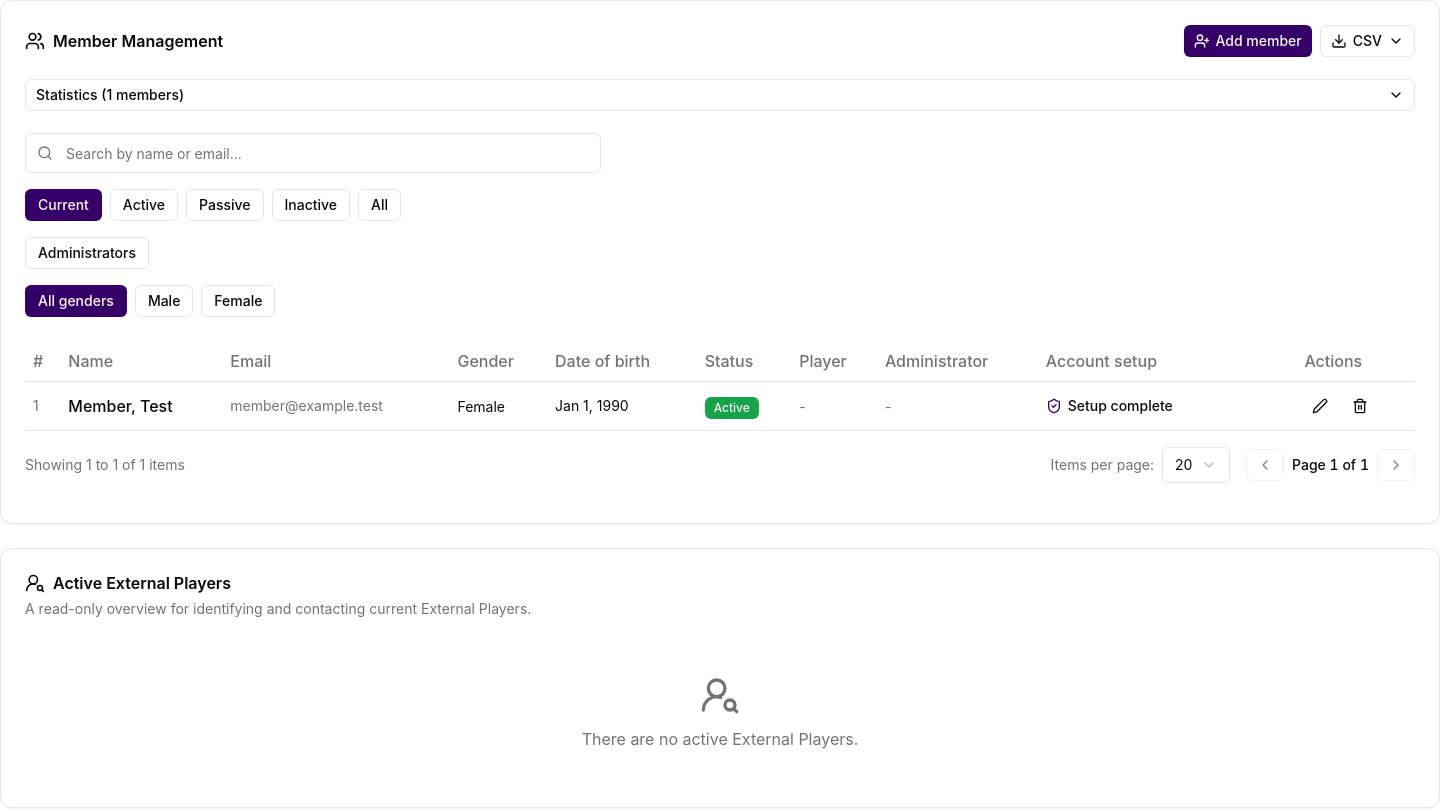
Test: MemberCenter member projection › manages Account suspension for the selected member and shows its reason
Click the button named "Edit Member, Test" at (1320, 406), box [1304, 390, 1336, 422]
(page scrolled)
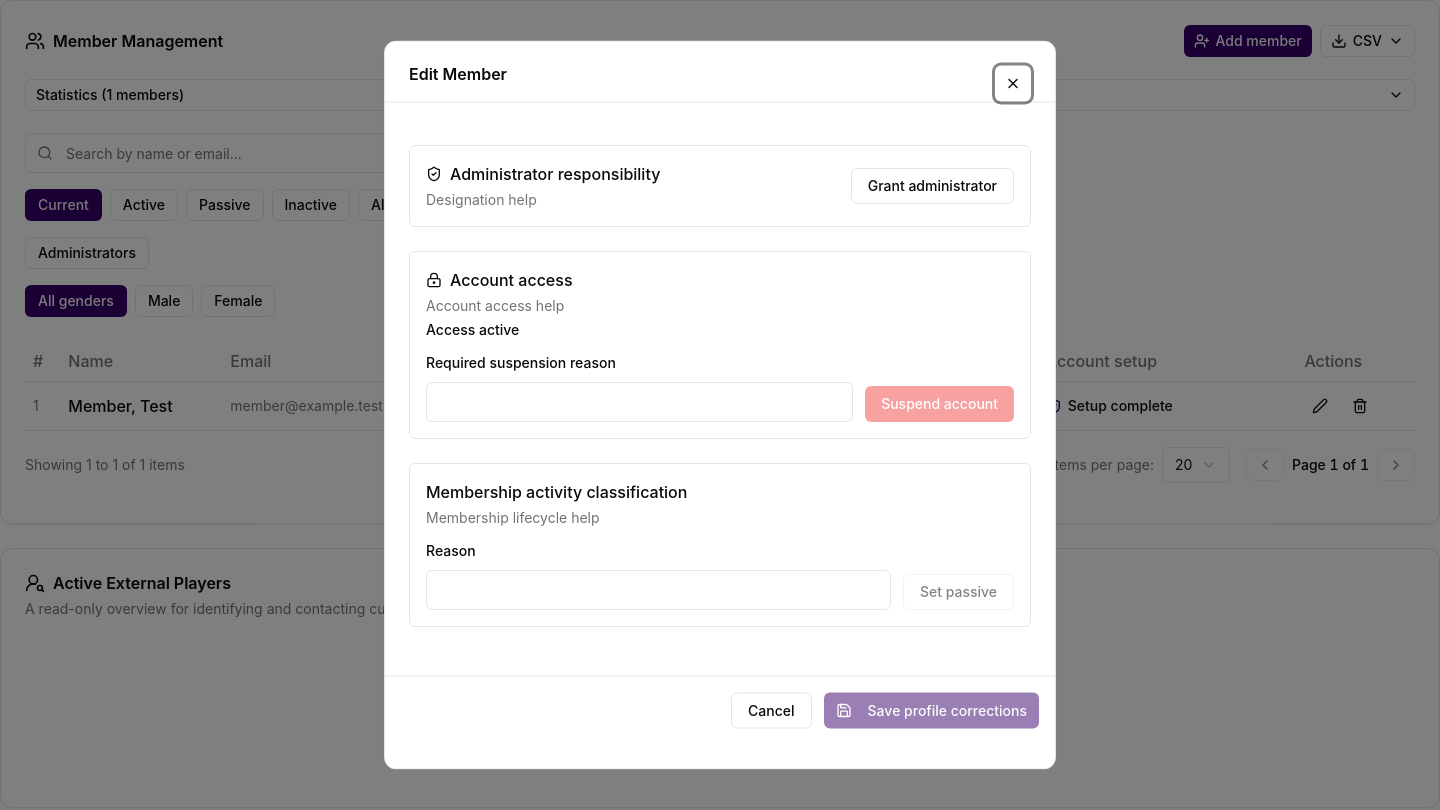
Now the text "Access active" is shown, box [426, 322, 519, 338]
Type "Policy review" into the field labelled "Required suspension reason" at (640, 402), box [426, 382, 853, 422]
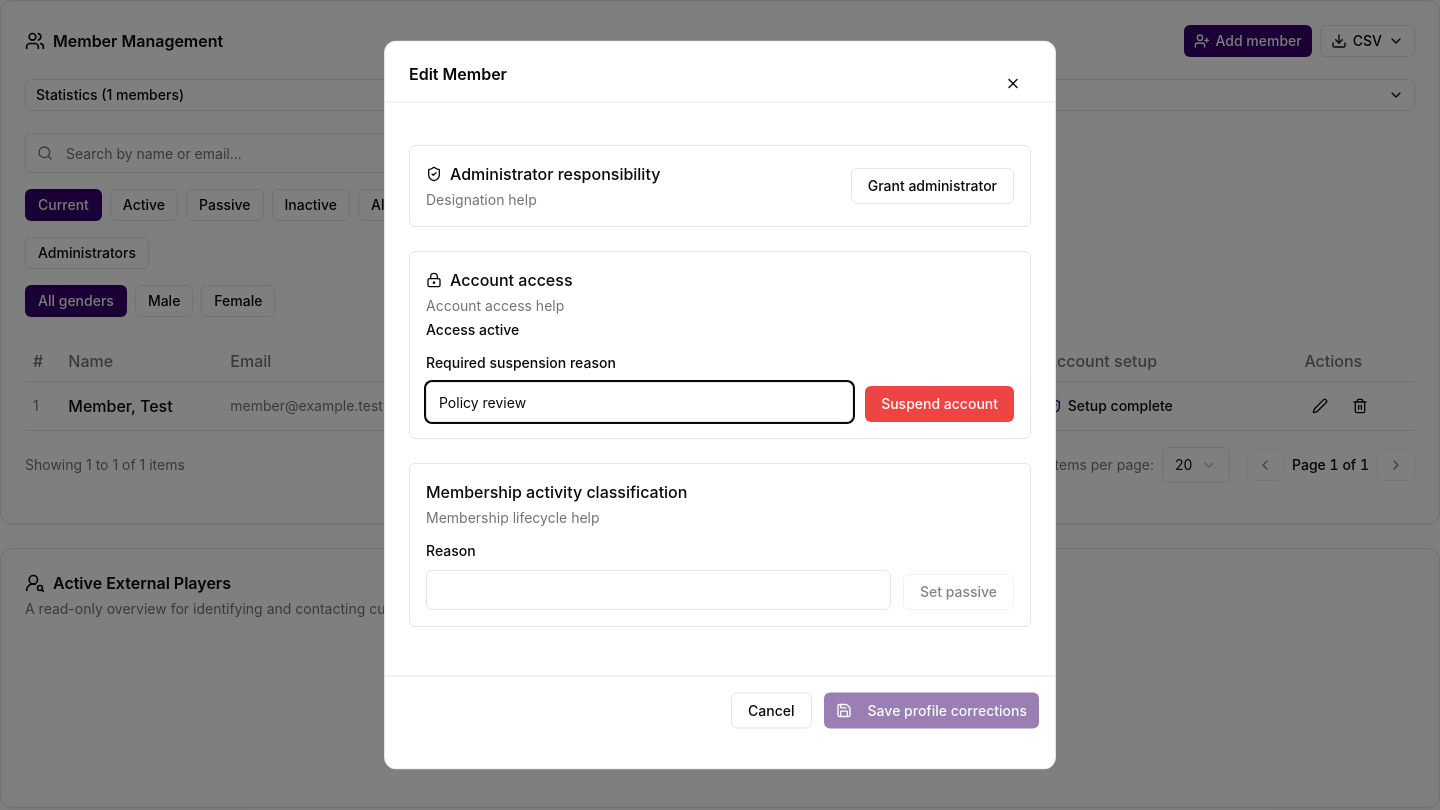
Click the button "Suspend account" at (940, 404), box [865, 386, 1014, 422]
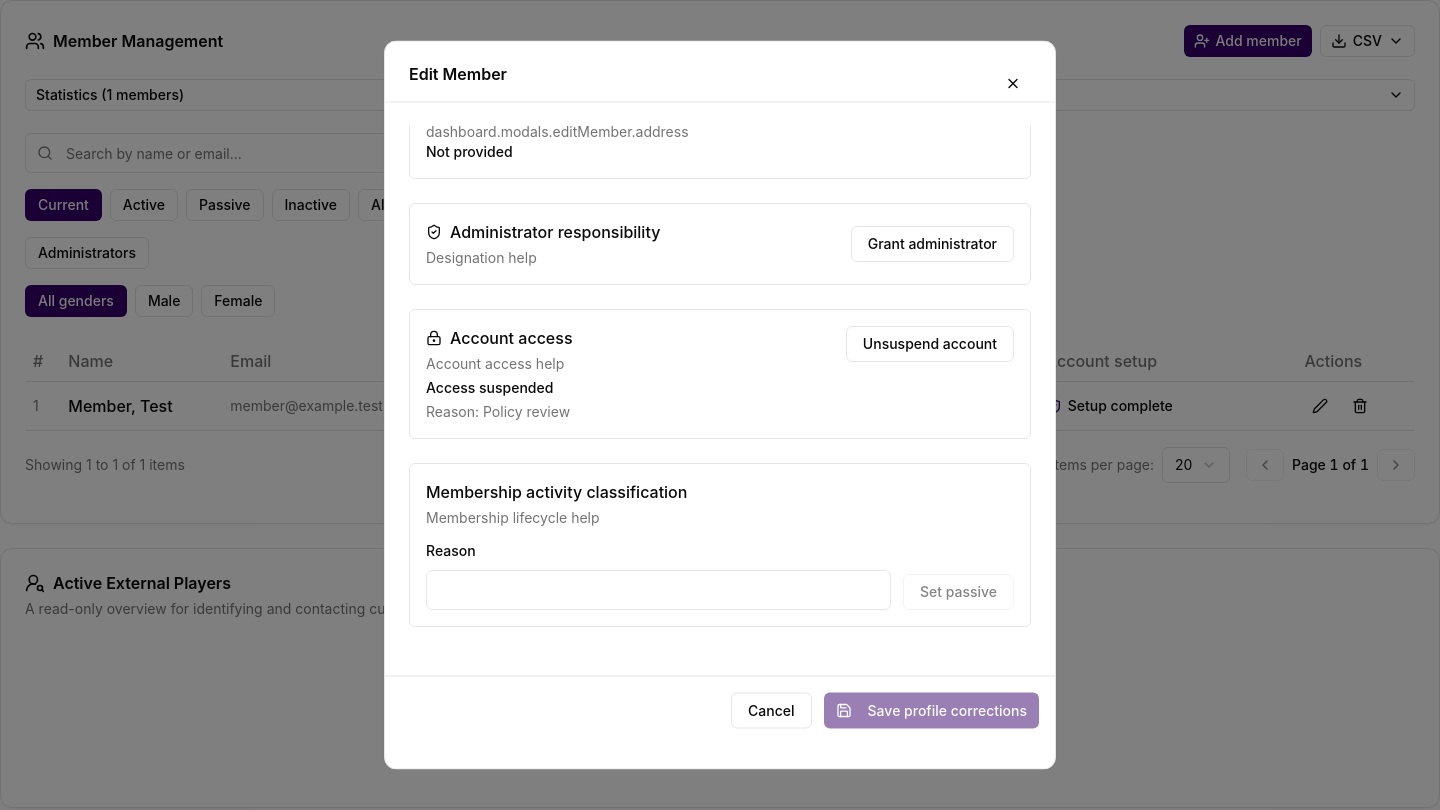
Now the text "Access suspended" is shown, box [426, 378, 572, 398]
Now the text "Reason: Policy review" is shown, box [426, 402, 572, 422]
Click the button "Unsuspend account" at (930, 344), box [846, 326, 1014, 362]
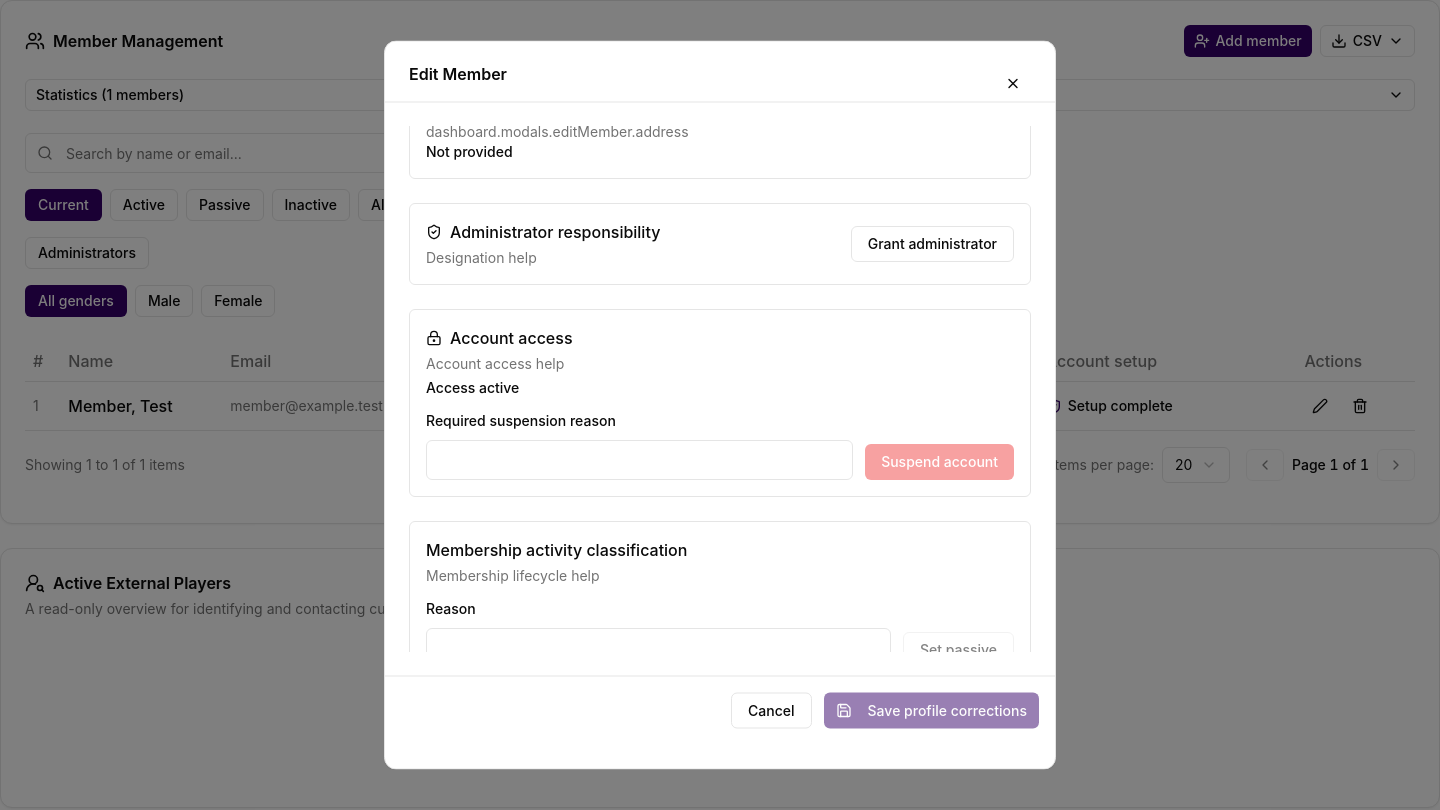
Now the text "Access active" is shown, box [426, 380, 519, 396]
